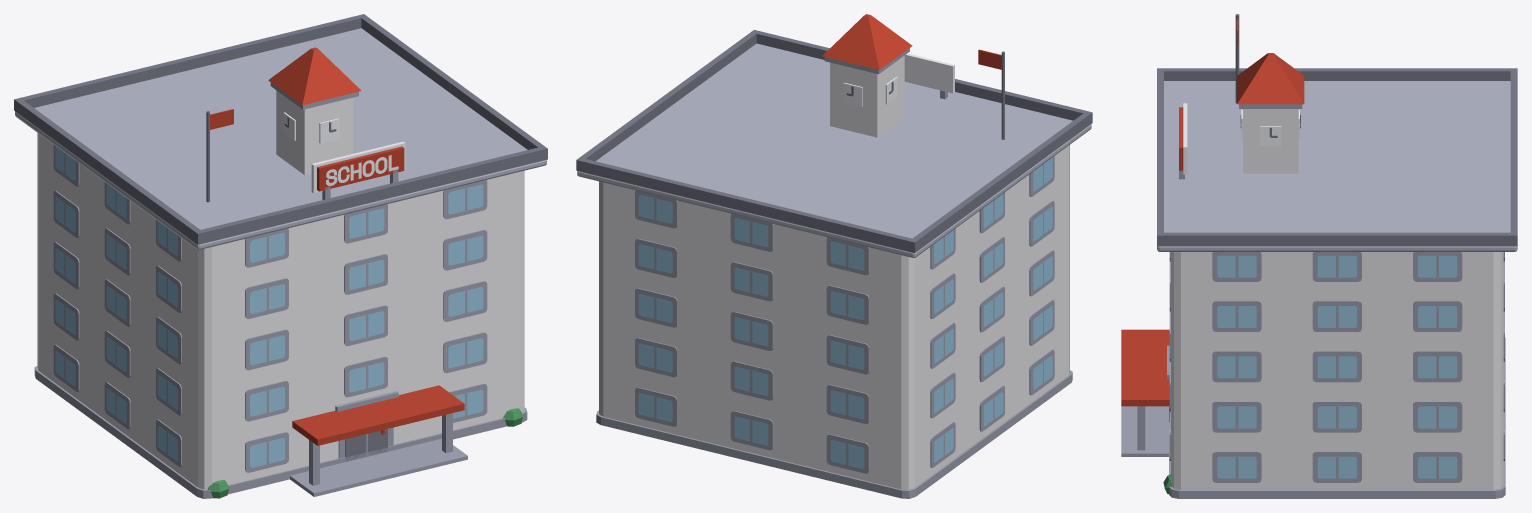
Rendered from school-2x2-5f.glb.
The picture shows the model from 3 angles, left to right: view 1: azimuth 30°, elevation 25°; view 2: azimuth 150°, elevation 25°; view 3: azimuth 270°, elevation 25°; orthographic projection. The views are drawn at different scales.
Parts seen in each view (by area): view 1: school-2x2-5f; view 2: school-2x2-5f; view 3: school-2x2-5f.
Boxes of the visible parts, <box> form: school-2x2-5f: <box>14,14,547,498</box>; school-2x2-5f: <box>576,14,1092,498</box>; school-2x2-5f: <box>1121,14,1517,498</box>.
Size of the model in its own units: 2 by 2.04 by 2.
1 material, 1 textured.
